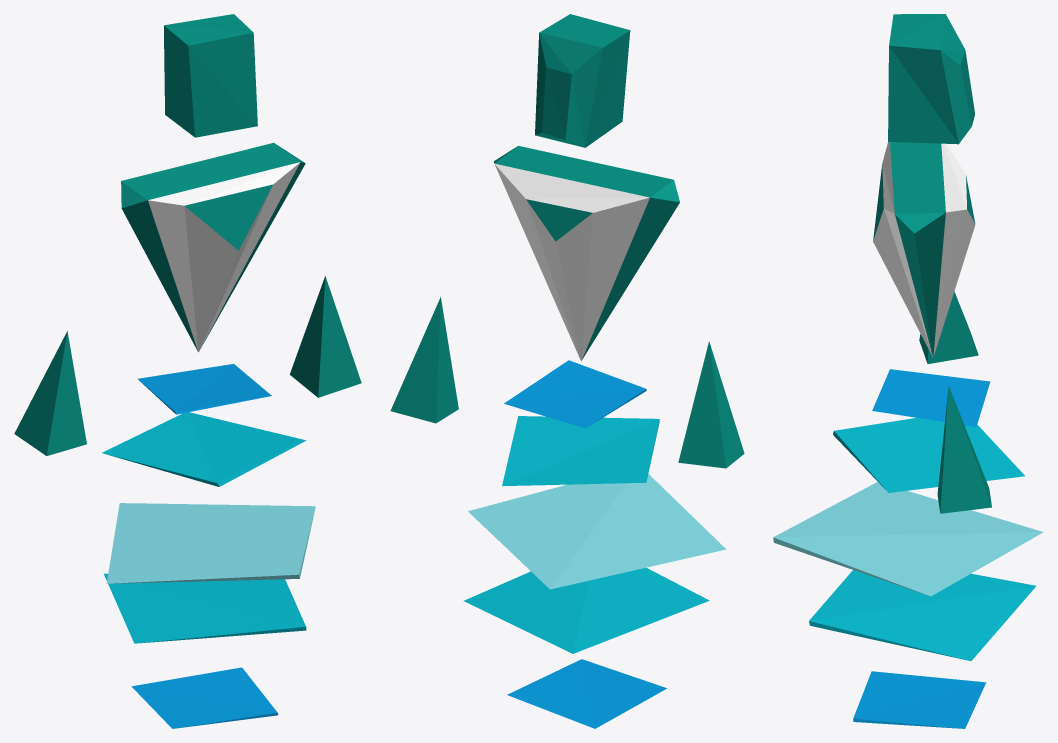
File: scene_yZiXaxOwBn.glb
The picture shows the model from 3 angles, left to right: view 1: azimuth 30°, elevation 25°; view 2: azimuth 150°, elevation 25°; view 3: azimuth 270°, elevation 25°; orthographic projection.
Visible parts, largest first — view 1: group1427213588, group139370859, group781591568, group1373170199, group394264213, group1008367794, group148522053, group949897558, group470300914; view 2: group1427213588, group139370859, group781591568, group1373170199, group394264213, group1008367794, group470300914, group949897558, group148522053; view 3: group139370859, group1427213588, group781591568, group1373170199, group394264213, group1008367794, group470300914, group949897558, group148522053.
Boxes of the visible parts, x1,y1,x2,y2 form: group1427213588: (121, 142, 305, 352); group139370859: (106, 503, 315, 583); group781591568: (104, 573, 306, 643); group1373170199: (164, 14, 257, 137); group394264213: (102, 412, 306, 486); group1008367794: (131, 667, 278, 728); group148522053: (14, 331, 86, 455); group949897558: (290, 276, 361, 397); group470300914: (137, 364, 271, 414); group1427213588: (494, 145, 679, 361); group139370859: (468, 474, 726, 589); group781591568: (464, 567, 709, 653); group1373170199: (535, 14, 630, 147); group394264213: (502, 416, 659, 486); group1008367794: (507, 659, 666, 728); group470300914: (504, 360, 646, 428); group949897558: (390, 297, 458, 423); group148522053: (678, 341, 744, 468); group139370859: (773, 482, 1043, 596); group1427213588: (873, 142, 975, 357); group781591568: (809, 570, 1036, 660); group1373170199: (888, 14, 974, 144); group394264213: (833, 418, 1024, 492); group1008367794: (853, 671, 986, 728); group470300914: (872, 369, 990, 426); group949897558: (937, 386, 991, 513); group148522053: (919, 291, 978, 363).
Bounding box in the file's own units: 1.05 × 2.03 × 0.7369.
